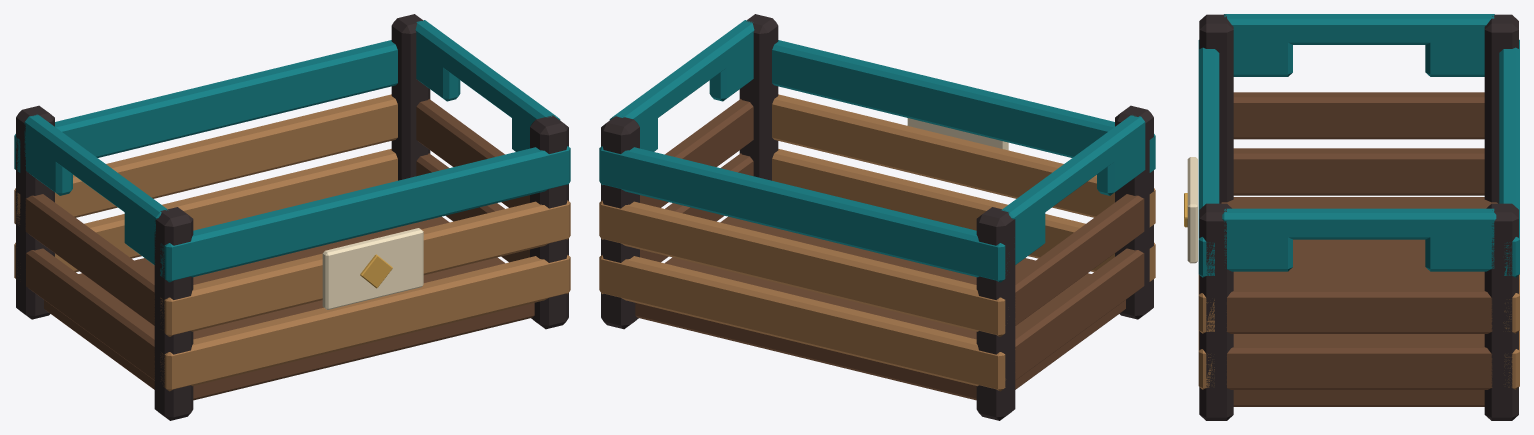
File: 04_Open_Crate.glb
3 renders of one model, left to right at view 1: azimuth 30°, elevation 25°; view 2: azimuth 150°, elevation 25°; view 3: azimuth 270°, elevation 25°, orthographic. The views are drawn at different scales.
Visible parts, largest first — view 1: 04_Open_Crate__Body; view 2: 04_Open_Crate__Body; view 3: 04_Open_Crate__Body.
Part boxes in pixels (x1,y1,x2,y2): 04_Open_Crate__Body: (14, 14, 570, 420); 04_Open_Crate__Body: (599, 14, 1155, 420); 04_Open_Crate__Body: (1184, 14, 1519, 420).
Size of the model in its own units: 2.8 by 1.34 by 1.95.
1 material, 1 textured.
